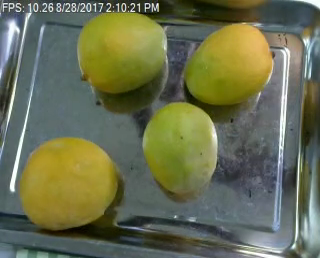Mango: (19, 138, 118, 230), (77, 9, 166, 92), (182, 24, 275, 102), (142, 103, 219, 193)
